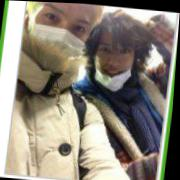OK: (23, 2, 95, 73)
WRONG: (94, 35, 139, 89)
